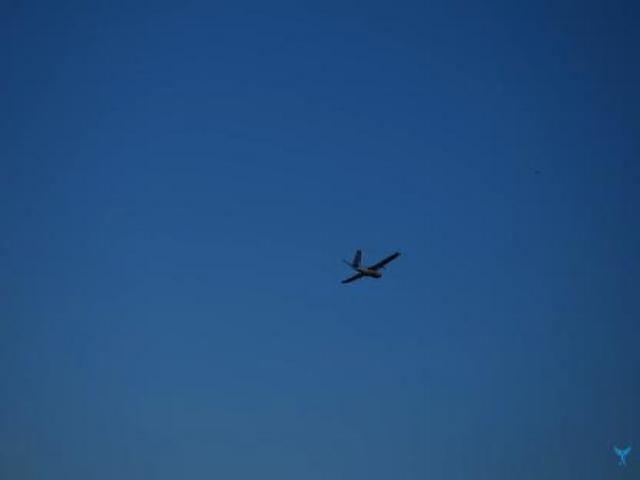uav: (331, 239, 403, 293)
